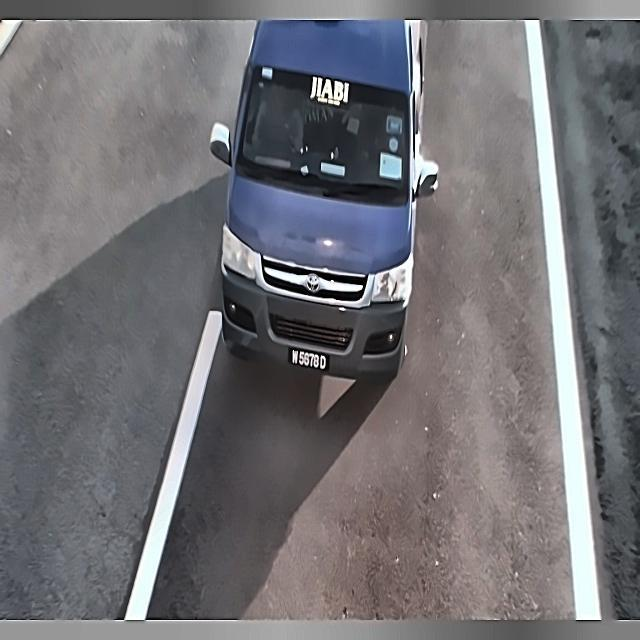car: (283, 340, 340, 380)
